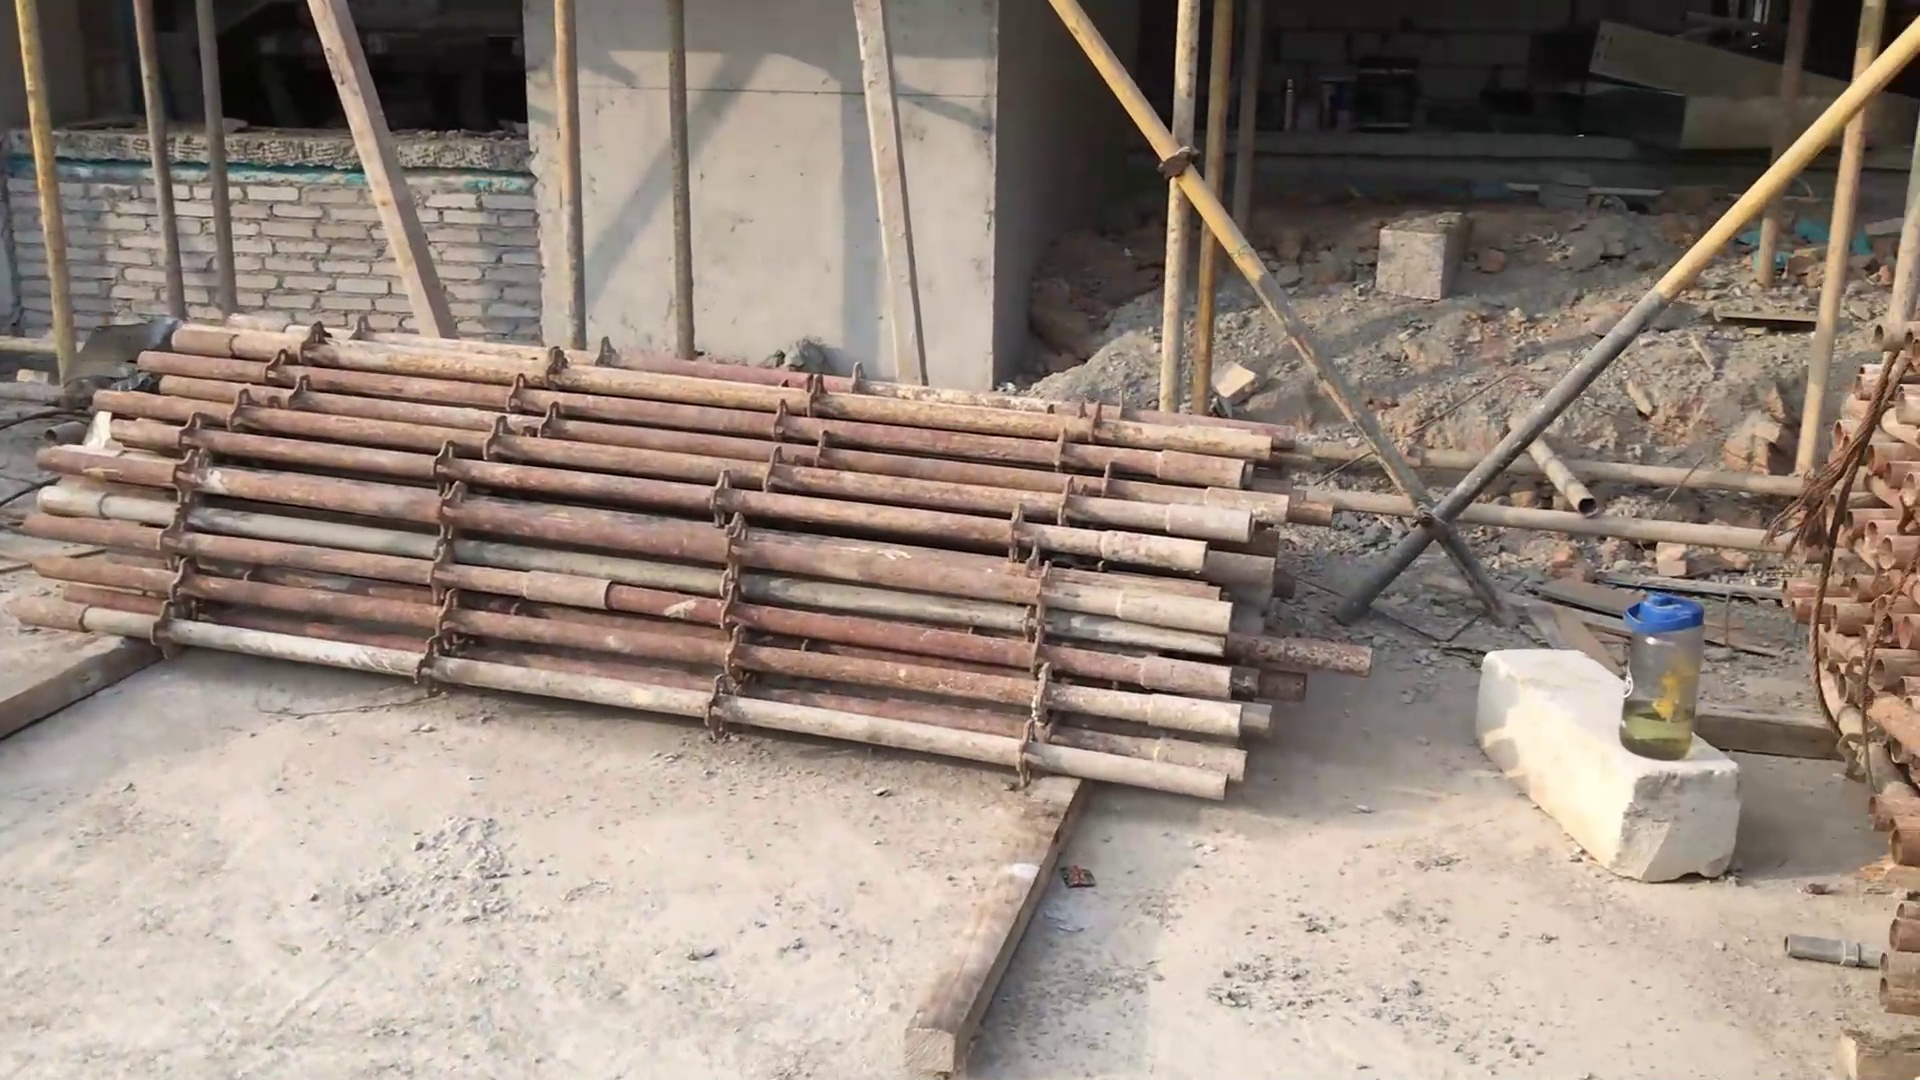scaffold: (15, 320, 1332, 800), (1801, 311, 1920, 997)
